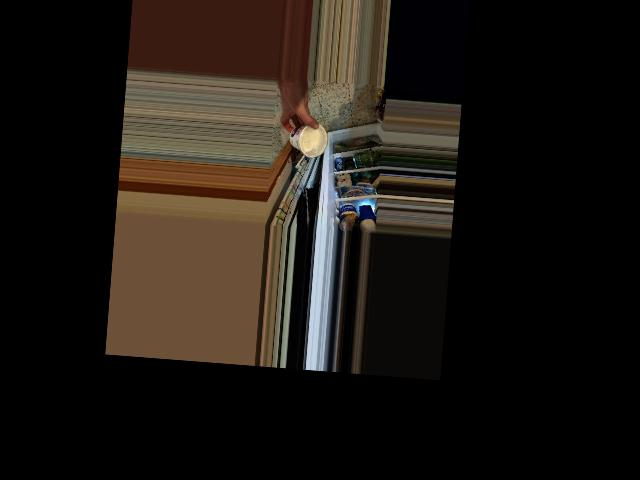cotage: (288, 123, 326, 158)
